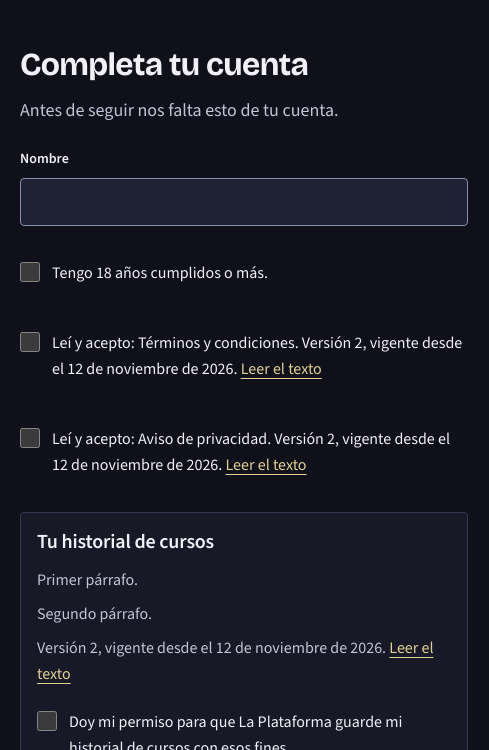
la pantalla que pide lo que le falta a la cuenta (PA-15) › completo, manda a la acción el nombre, la edad, el destino y cada casilla con el texto que se pintó
In the field labelled "Nombre": {"x": 244, "y": 202} left=20, top=178, right=468, bottom=226, type "Ana"
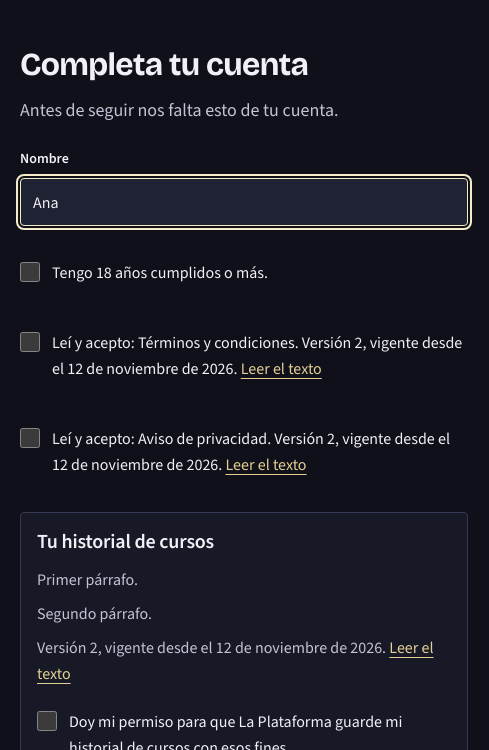
Click the checkbox labelled "Tengo 18 años cumplidos o más.": {"x": 30, "y": 272} left=20, top=262, right=40, bottom=282
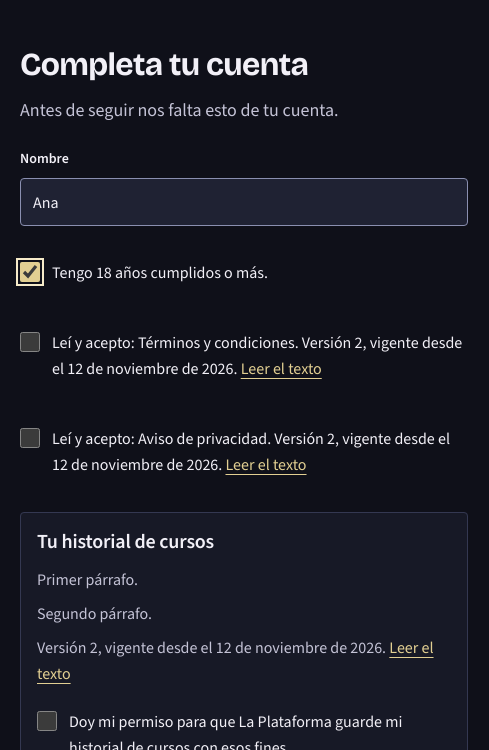
Click the 2nd checkbox: {"x": 30, "y": 342} left=20, top=332, right=40, bottom=352
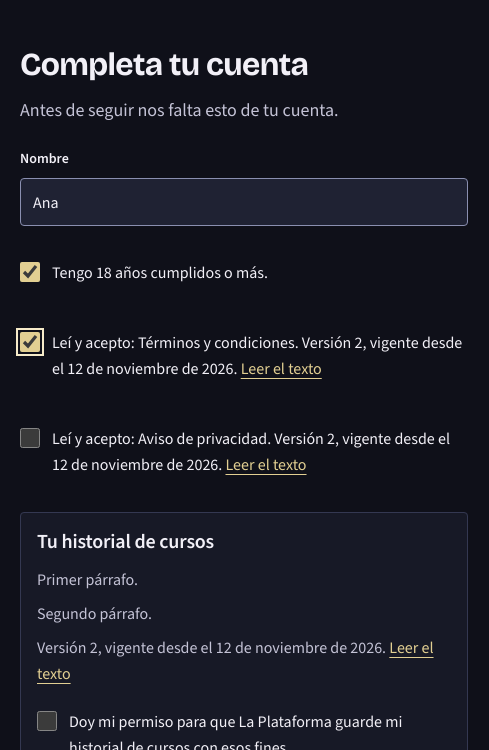
Click the 3rd checkbox: {"x": 30, "y": 438} left=20, top=428, right=40, bottom=448
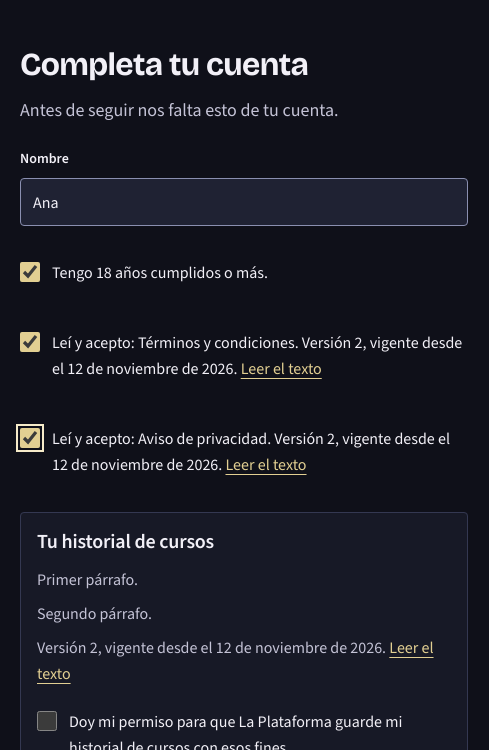
Click the 4th checkbox: {"x": 47, "y": 721} left=37, top=711, right=57, bottom=731
(page scrolled)
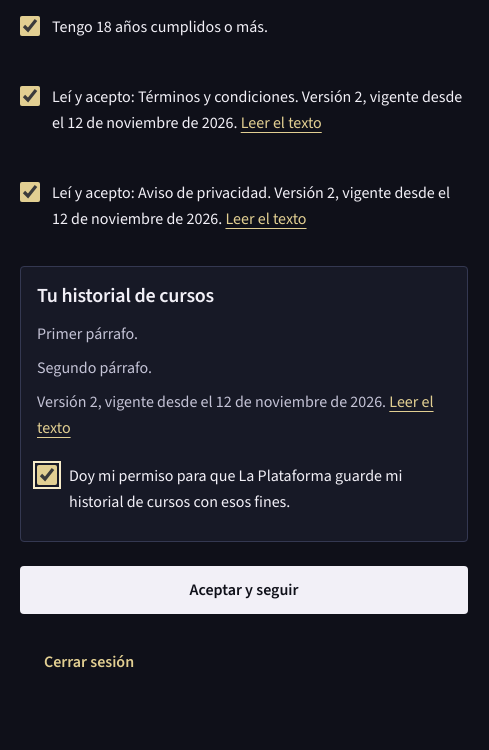
Click the button "Aceptar y seguir": {"x": 244, "y": 590} left=20, top=566, right=468, bottom=614
(page scrolled)
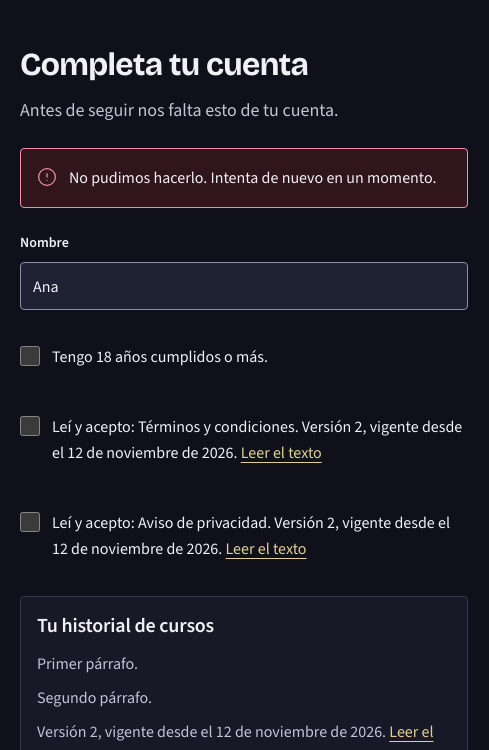
expect the field labelled "Nombre" holds "Ana": met, box left=20, top=262, right=468, bottom=310
expect the message reads "No pudimos hacerlo. Intenta de nuevo en un momento.": met, box left=69, top=167, right=436, bottom=188
